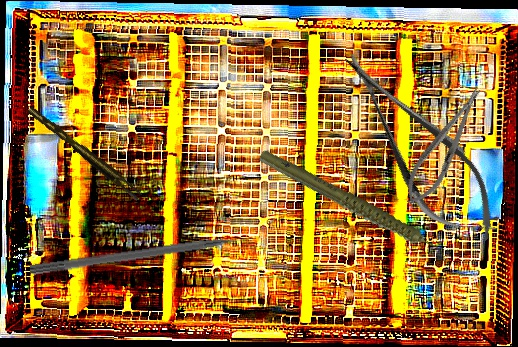Handpiece: (255, 114, 452, 301)
Micro Scissor: (322, 32, 517, 262)
Needle Holder: (396, 81, 493, 212)
Pusher: (29, 231, 263, 278)
Tissue Forceps: (27, 100, 143, 205)
